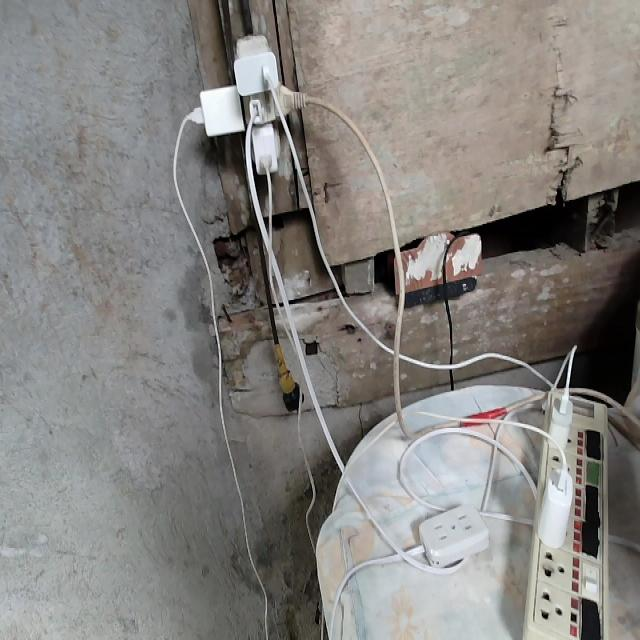-: (185, 34, 317, 178)
